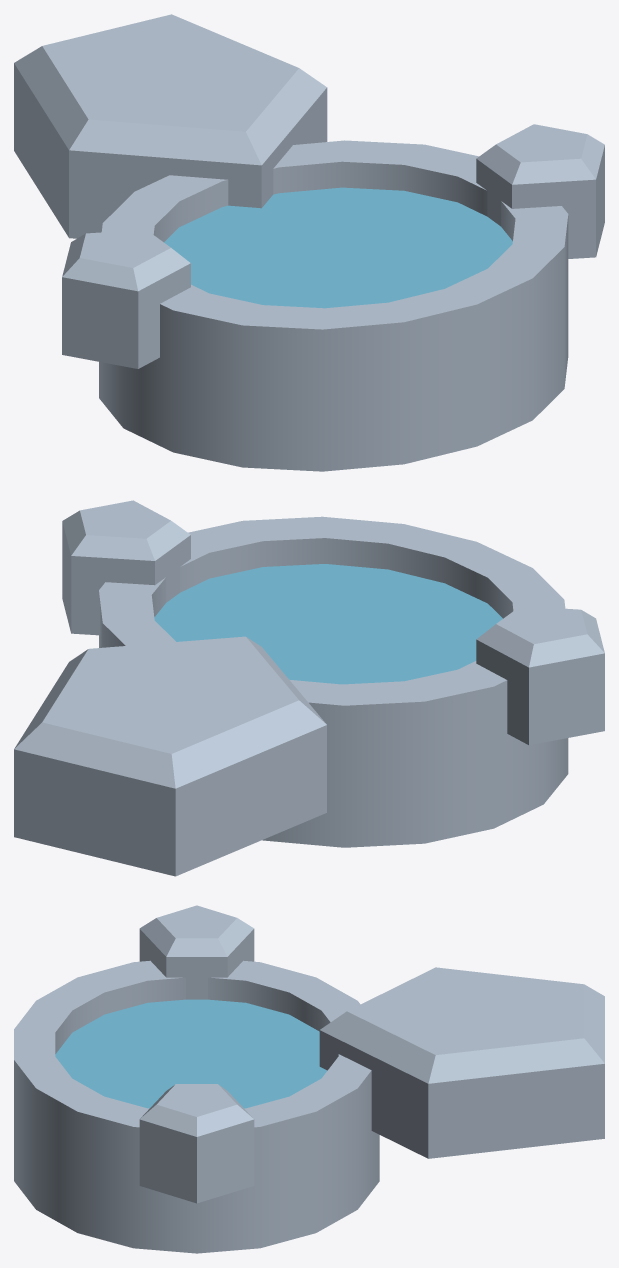
Rendered from port1.gltf.
3 views of the same model, one above another, from view 1: azimuth 30°, elevation 25°; view 2: azimuth 150°, elevation 25°; view 3: azimuth 270°, elevation 25° (orthographic). The views are drawn at different scales.
Visible parts, largest first — view 1: polySurface116; view 2: polySurface116; view 3: polySurface116.
Boxes of the visible parts, <box> form: polySurface116: <box>14,14,604,471</box>; polySurface116: <box>14,500,604,876</box>; polySurface116: <box>14,905,604,1253</box>.
Size of the model in its own units: 0.2841 by 0.0905 by 0.3135.
